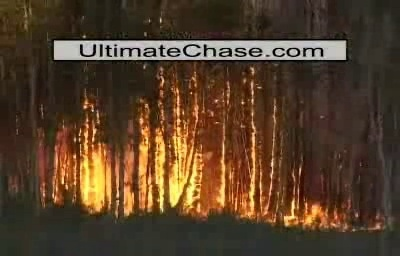fire: (183, 64, 270, 216), (139, 64, 208, 214), (54, 94, 111, 212), (283, 195, 390, 230)
